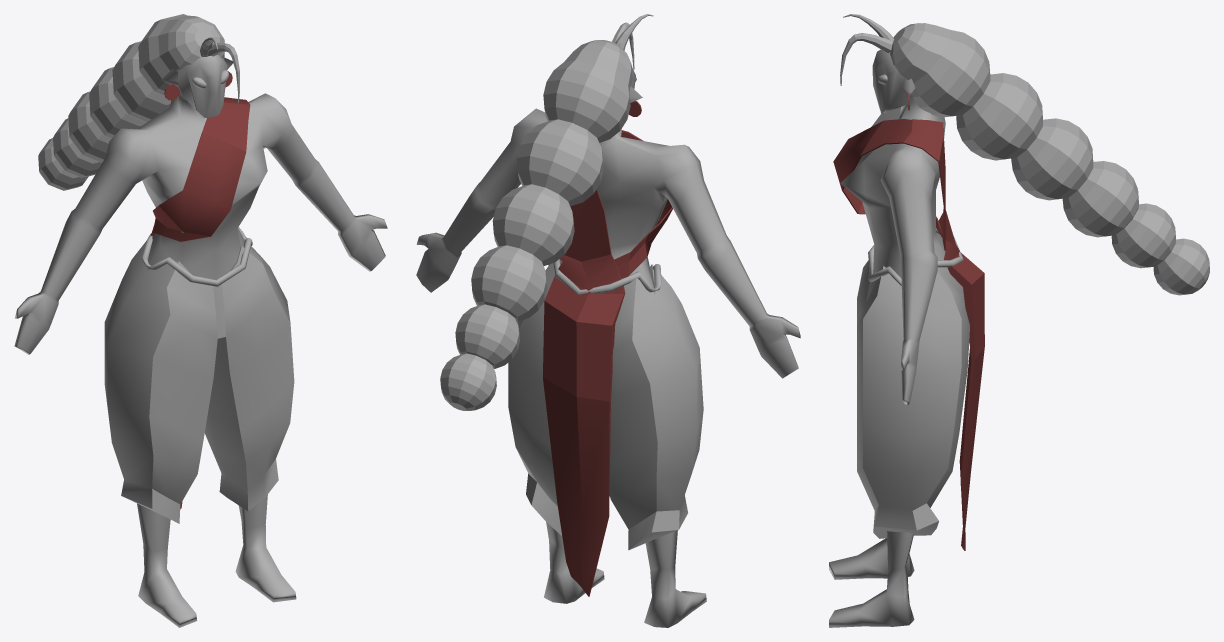
File: ClothedCharacter.fbx
The picture shows the model from 3 angles, left to right: view 1: azimuth 30°, elevation 25°; view 2: azimuth 150°, elevation 25°; view 3: azimuth 270°, elevation 25°; orthographic projection. The views are drawn at different scales.
Visible parts, largest first — view 1: Harem, BodyBlockout, Hair, Red_wraps, CHain, HairSweep; view 2: Harem, Hair, BodyBlockout, Red_wraps, CHain, HairSweep; view 3: Hair, Harem, BodyBlockout, Red_wraps, HairSweep, CHain.
Boxes of the visible parts, bbox=[...] form: Harem: bbox=[104, 241, 294, 523]; BodyBlockout: bbox=[14, 54, 387, 627]; Hair: bbox=[38, 14, 224, 190]; Red_wraps: bbox=[151, 97, 250, 508]; CHain: bbox=[142, 227, 252, 286]; HairSweep: bbox=[200, 37, 239, 102]; Harem: bbox=[508, 263, 703, 550]; Hair: bbox=[440, 40, 633, 410]; BodyBlockout: bbox=[416, 68, 800, 627]; Red_wraps: bbox=[543, 130, 672, 596]; CHain: bbox=[548, 259, 661, 294]; HairSweep: bbox=[612, 14, 653, 69]; Hair: bbox=[890, 23, 1209, 295]; Harem: bbox=[857, 233, 969, 538]; BodyBlockout: bbox=[829, 49, 945, 627]; Red_wraps: bbox=[833, 119, 984, 550]; HairSweep: bbox=[840, 14, 893, 85]; CHain: bbox=[868, 228, 963, 285].
Size of the model in its own units: 146 by 213 by 127.
